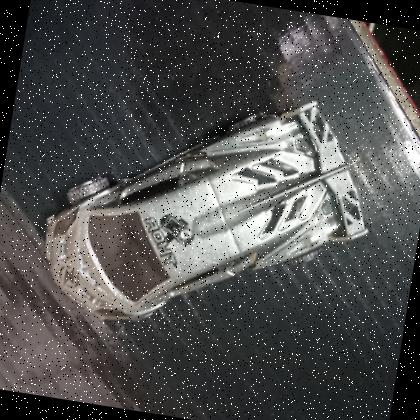Car: (26, 54, 396, 364)
